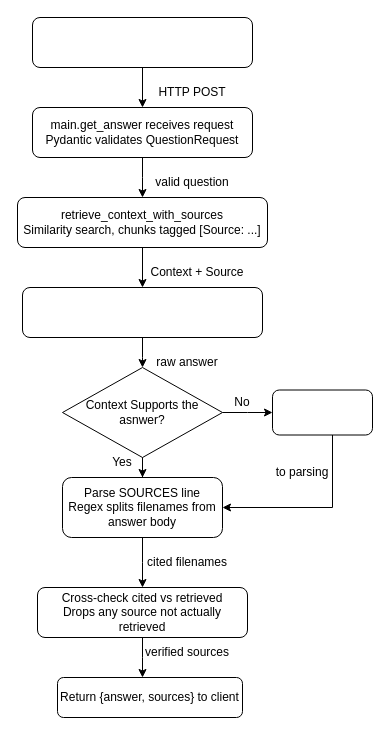
Image size: 390x735. Some labels were removed from this diagram. The centre of each missing label's shape, as x and y in pixels:
"Abstain, SOURCES: none" goes at (322,412).
"ask_question(question, context) Single grounded Gemini call, no tools" goes at (142,312).
"Client POSTs question app.js processQueue, JSON body" goes at (142,42).
